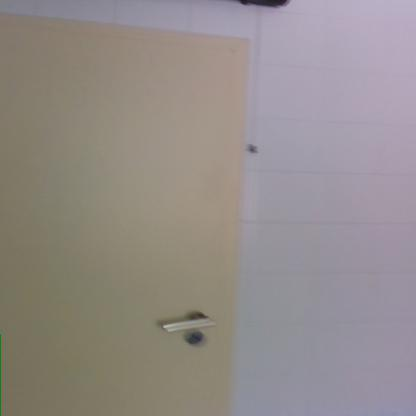door: (0, 21, 235, 416)
lever: (162, 316, 218, 334)
